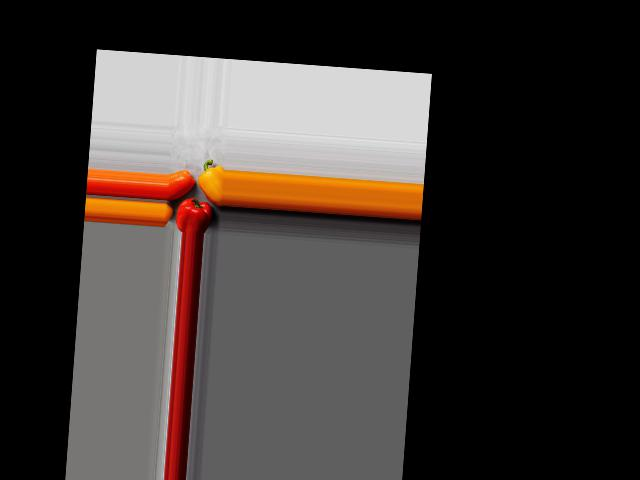bell_pepper: (175, 198, 216, 233)
